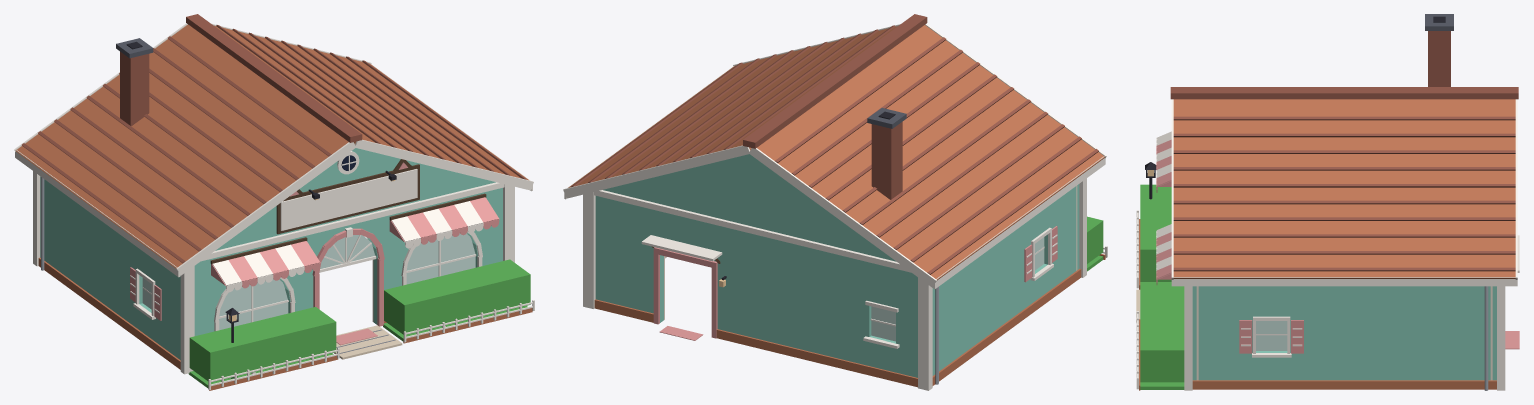
The model's file is CatCafe_Plot_Cafe_Mint.glb.
3 views of the same model, side by side, from view 1: azimuth 30°, elevation 25°; view 2: azimuth 150°, elevation 25°; view 3: azimuth 270°, elevation 25° (orthographic). The views are drawn at different scales.
Visible parts, largest first — view 1: CatCafe_Plot_Cafe_Mint_Roof, CatCafe_Plot_Cafe_Mint, CatCafe_Plot_Cafe_Mint_Paint, CatCafe_Plot_Cafe_Mint_Fireflies, CatCafe_Plot_Cafe_Mint_Glass, CatCafe_Plot_Cafe_Mint_SignBoard, CatCafe_Plot_Cafe_Mint_Flowers; view 2: CatCafe_Plot_Cafe_Mint_Roof, CatCafe_Plot_Cafe_Mint_Paint, CatCafe_Plot_Cafe_Mint, CatCafe_Plot_Cafe_Mint_Glass, CatCafe_Plot_Cafe_Mint_Fireflies; view 3: CatCafe_Plot_Cafe_Mint_Roof, CatCafe_Plot_Cafe_Mint_Paint, CatCafe_Plot_Cafe_Mint, CatCafe_Plot_Cafe_Mint_Fireflies, CatCafe_Plot_Cafe_Mint_Glass, CatCafe_Plot_Cafe_Mint_Wallpaper, CatCafe_Plot_Cafe_Mint_Flowers.
Part boxes in pixels (x1=…): CatCafe_Plot_Cafe_Mint_Roof: x1=14, y1=14, x2=533, y2=277; CatCafe_Plot_Cafe_Mint: x1=33, y1=151, x2=534, y2=390; CatCafe_Plot_Cafe_Mint_Paint: x1=40, y1=148, x2=502, y2=359; CatCafe_Plot_Cafe_Mint_Fireflies: x1=189, y1=259, x2=530, y2=382; CatCafe_Plot_Cafe_Mint_Glass: x1=142, y1=233, x2=475, y2=330; CatCafe_Plot_Cafe_Mint_SignBoard: x1=280, y1=169, x2=417, y2=230; CatCafe_Plot_Cafe_Mint_Flowers: x1=188, y1=306, x2=527, y2=388; CatCafe_Plot_Cafe_Mint_Roof: x1=563, y1=14, x2=1106, y2=289; CatCafe_Plot_Cafe_Mint_Paint: x1=595, y1=154, x2=1079, y2=377; CatCafe_Plot_Cafe_Mint: x1=583, y1=178, x2=1107, y2=390; CatCafe_Plot_Cafe_Mint_Glass: x1=871, y1=237, x2=1044, y2=341; CatCafe_Plot_Cafe_Mint_Fireflies: x1=1087, y1=216, x2=1103, y2=263; CatCafe_Plot_Cafe_Mint_Roof: x1=1170, y1=14, x2=1518, y2=286; CatCafe_Plot_Cafe_Mint_Paint: x1=1192, y1=286, x2=1496, y2=380; CatCafe_Plot_Cafe_Mint: x1=1136, y1=131, x2=1519, y2=390; CatCafe_Plot_Cafe_Mint_Fireflies: x1=1140, y1=184, x2=1184, y2=382; CatCafe_Plot_Cafe_Mint_Glass: x1=1256, y1=321, x2=1287, y2=350; CatCafe_Plot_Cafe_Mint_Wallpaper: x1=1196, y1=286, x2=1492, y2=380; CatCafe_Plot_Cafe_Mint_Flowers: x1=1140, y1=282, x2=1184, y2=389.
Bounding box in the file's own units: 41.86 × 25.3 × 36.8.
1 material, 1 textured.
